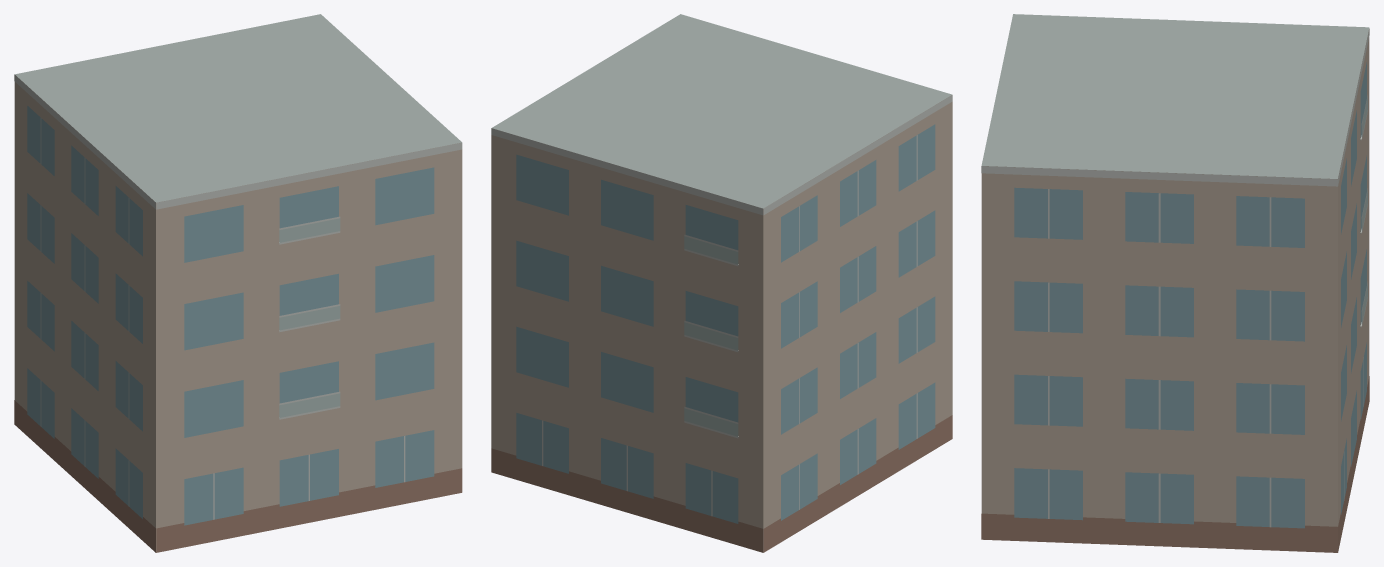
The model's file is residential-de038c77-e306-405e-bf77-f9e514065a0b.glb.
3 renders of one model, left to right at view 1: azimuth 30°, elevation 25°; view 2: azimuth 150°, elevation 25°; view 3: azimuth 270°, elevation 25°, orthographic. The views are drawn at different scales.
Parts seen in each view (by area): view 1: residential-de038c77-e306-405e-bf77-f9e514065a0b.tmp; view 2: residential-de038c77-e306-405e-bf77-f9e514065a0b.tmp; view 3: residential-de038c77-e306-405e-bf77-f9e514065a0b.tmp.
Boxes of the visible parts, x1,y1,x2,y2 form: residential-de038c77-e306-405e-bf77-f9e514065a0b.tmp: [14, 14, 462, 552]; residential-de038c77-e306-405e-bf77-f9e514065a0b.tmp: [491, 14, 952, 552]; residential-de038c77-e306-405e-bf77-f9e514065a0b.tmp: [981, 14, 1369, 552].
Size of the model in its own units: 11.56 by 12.2 by 11.49.
